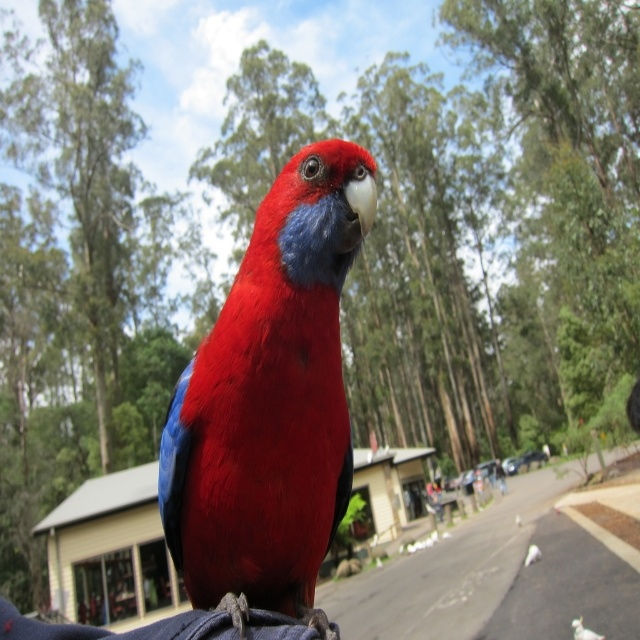Parrot: (158, 139, 378, 639)
